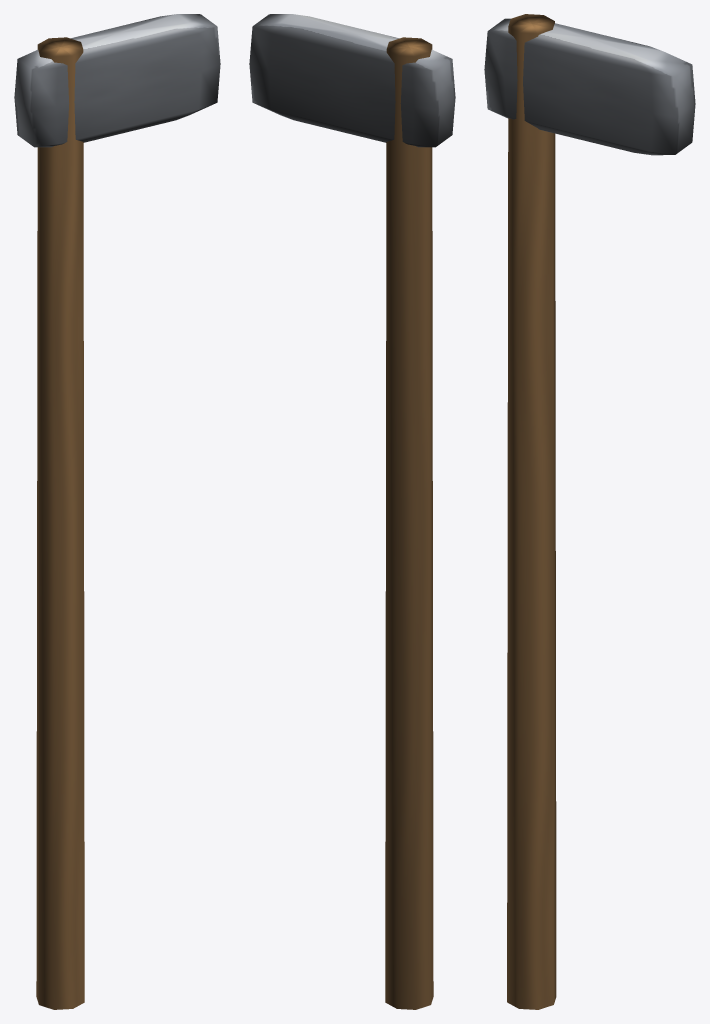
Rendered from hache-bucheron.glb.
3 renders of one model, left to right at view 1: azimuth 30°, elevation 25°; view 2: azimuth 150°, elevation 25°; view 3: azimuth 330°, elevation 25°, orthographic. The views are drawn at different scales.
Visible parts, largest first — view 1: hache-bucheron; view 2: hache-bucheron; view 3: hache-bucheron.
Boxes of the visible parts, x1,y1,x2,y2 form: hache-bucheron: [14, 14, 220, 1009]; hache-bucheron: [249, 14, 455, 1009]; hache-bucheron: [484, 14, 695, 1009].
Size of the model in its own units: 0.166 by 0.8 by 0.038.
1 material, 1 textured.
